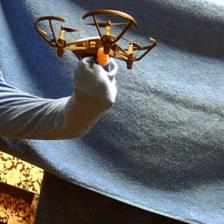drone: (34, 9, 159, 70)
